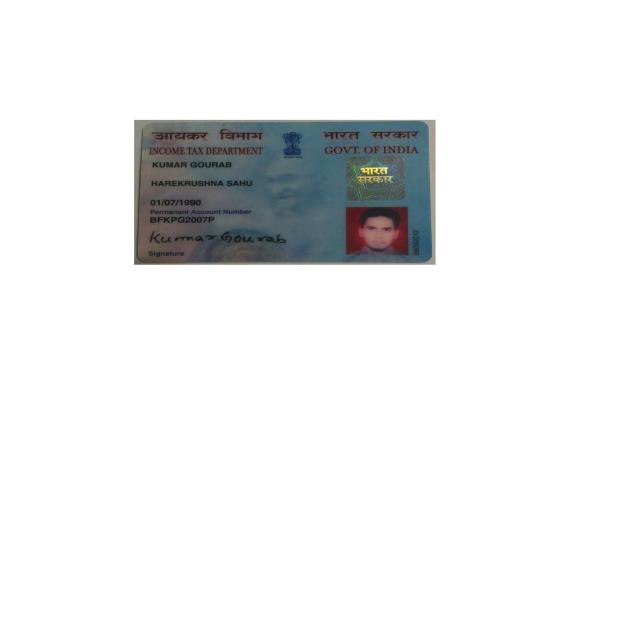pan_card: (136, 122, 435, 264)
